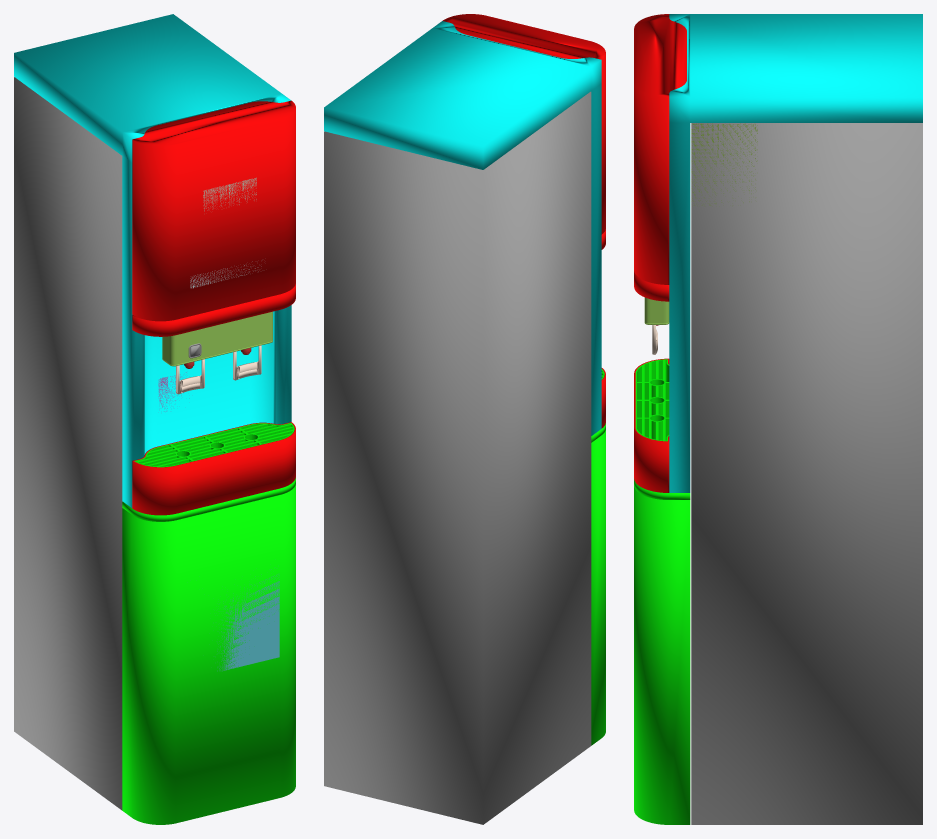
File: ver3.glb
3 views of the same model, side by side, from view 1: azimuth 30°, elevation 25°; view 2: azimuth 150°, elevation 25°; view 3: azimuth 270°, elevation 25° (orthographic). The views are drawn at different scales.
Visible parts, largest first — view 1: Box2138776638, Layer_0_LTG_Wiring004, Layer_1_DAY001, Layer_1_CONCRETE003, Layer_1_CONCRETE002, Plane2115543480, Layer_0_LTG_Wiring003, Box2138776639, Layer_1_CONCRETE004, Layer_0_LTG_Wiring005, Plane2115543478; view 2: Box2138776638, Layer_1_DAY001, Layer_0_LTG_Wiring004, Layer_1_CONCRETE003; view 3: Box2138776638, Layer_1_DAY001, Layer_0_LTG_Wiring004, Layer_1_CONCRETE003, Layer_0_LTG_Wiring003, Layer_1_CONCRETE002, Plane2115543481, Layer_1_CONCRETE004, Box2138776639.
Part boxes in pixels (<box>): Box2138776638: <box>14,77,122,810</box>; Layer_0_LTG_Wiring004: <box>122,484,295,824</box>; Layer_1_DAY001: <box>14,14,291,507</box>; Layer_1_CONCRETE003: <box>132,100,295,321</box>; Layer_1_CONCRETE002: <box>132,422,295,515</box>; Plane2115543480: <box>217,569,279,671</box>; Layer_0_LTG_Wiring003: <box>134,423,294,467</box>; Box2138776639: <box>162,311,272,365</box>; Layer_1_CONCRETE004: <box>132,284,295,336</box>; Layer_0_LTG_Wiring005: <box>122,478,295,521</box>; Plane2115543478: <box>203,177,256,211</box>; Box2138776638: <box>324,91,591,824</box>; Layer_1_DAY001: <box>324,21,601,435</box>; Layer_0_LTG_Wiring004: <box>591,430,605,745</box>; Layer_1_CONCRETE003: <box>442,14,605,234</box>; Box2138776638: <box>691,123,922,824</box>; Layer_1_DAY001: <box>669,14,922,492</box>; Layer_0_LTG_Wiring004: <box>634,486,690,824</box>; Layer_1_CONCRETE003: <box>634,14,686,284</box>; Layer_0_LTG_Wiring003: <box>635,359,669,441</box>; Layer_1_CONCRETE002: <box>634,358,669,492</box>; Plane2115543481: <box>691,123,757,205</box>; Layer_1_CONCRETE004: <box>634,271,669,301</box>; Box2138776639: <box>644,297,669,323</box>.
Size of the model in its own units: 0.252 by 1.03 by 0.369.
